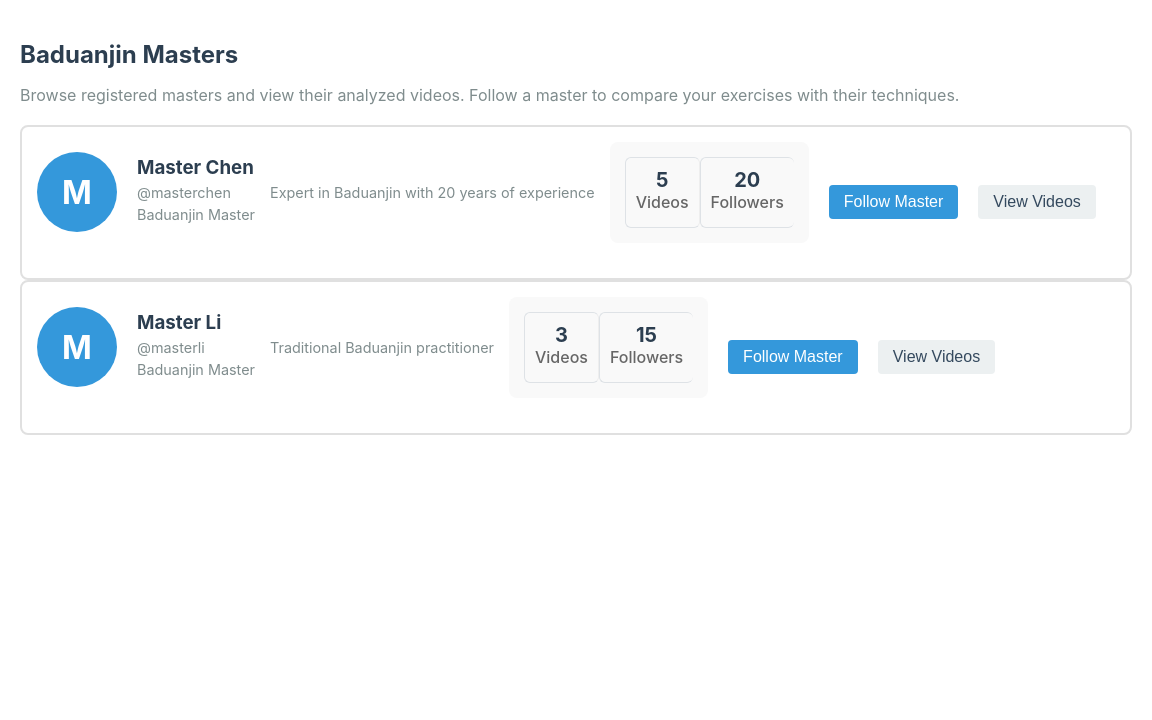
Test: Masters Component › Master Videos Functionality › should show no videos message when master has no videos
What coordinates should you click on to do the following:
click the button "View Videos" in the row of "masterchen"
I would click on:
 (1037, 202)
Its box is [978, 185, 1096, 219].
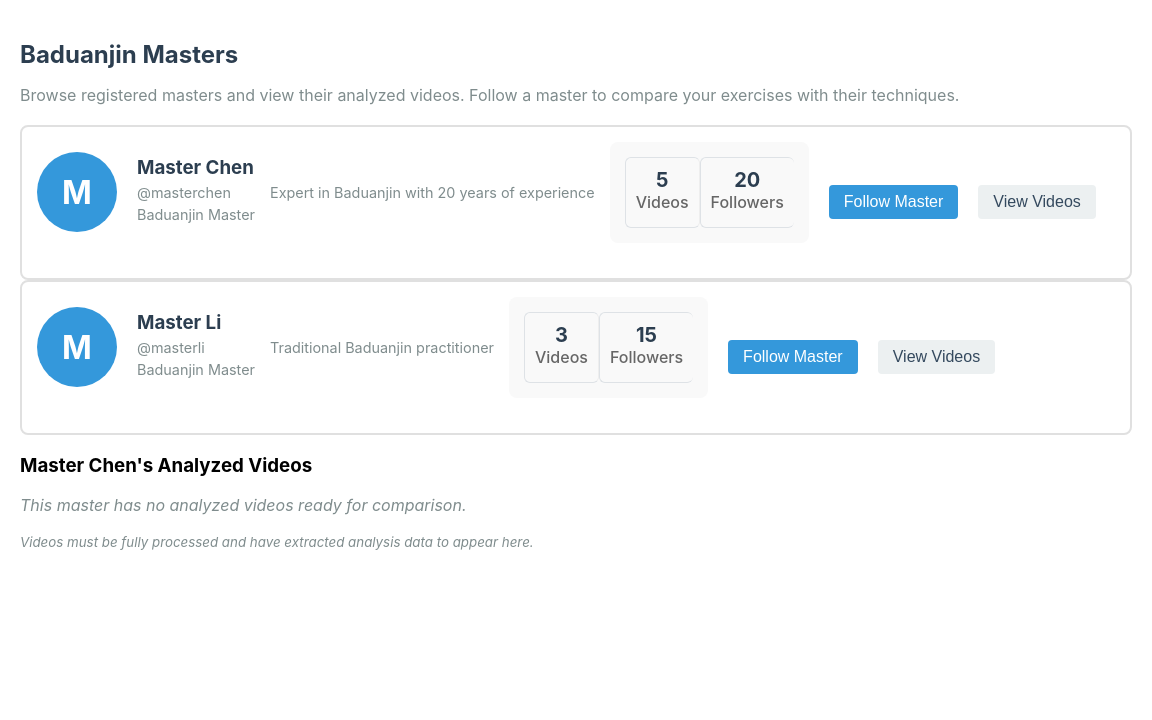
Check: the text "This master has no analyzed videos ready for comparison." is shown, box [20, 495, 466, 515]
